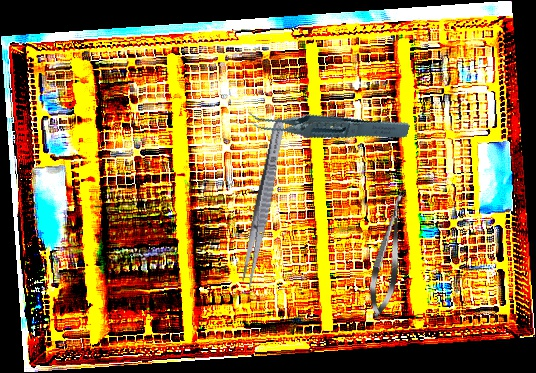Dressing Forceps: (238, 116, 289, 291)
Micro Scissor: (363, 188, 414, 321)
Tissue Forceps: (245, 76, 411, 171)
